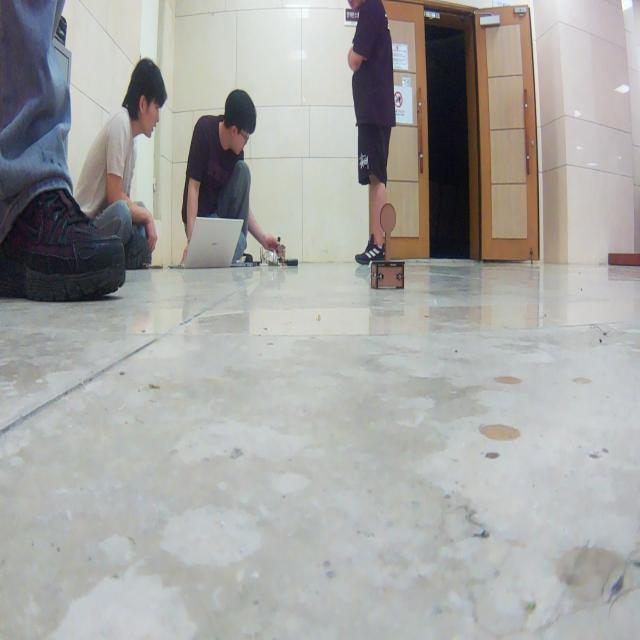target: (370, 202, 406, 290)
